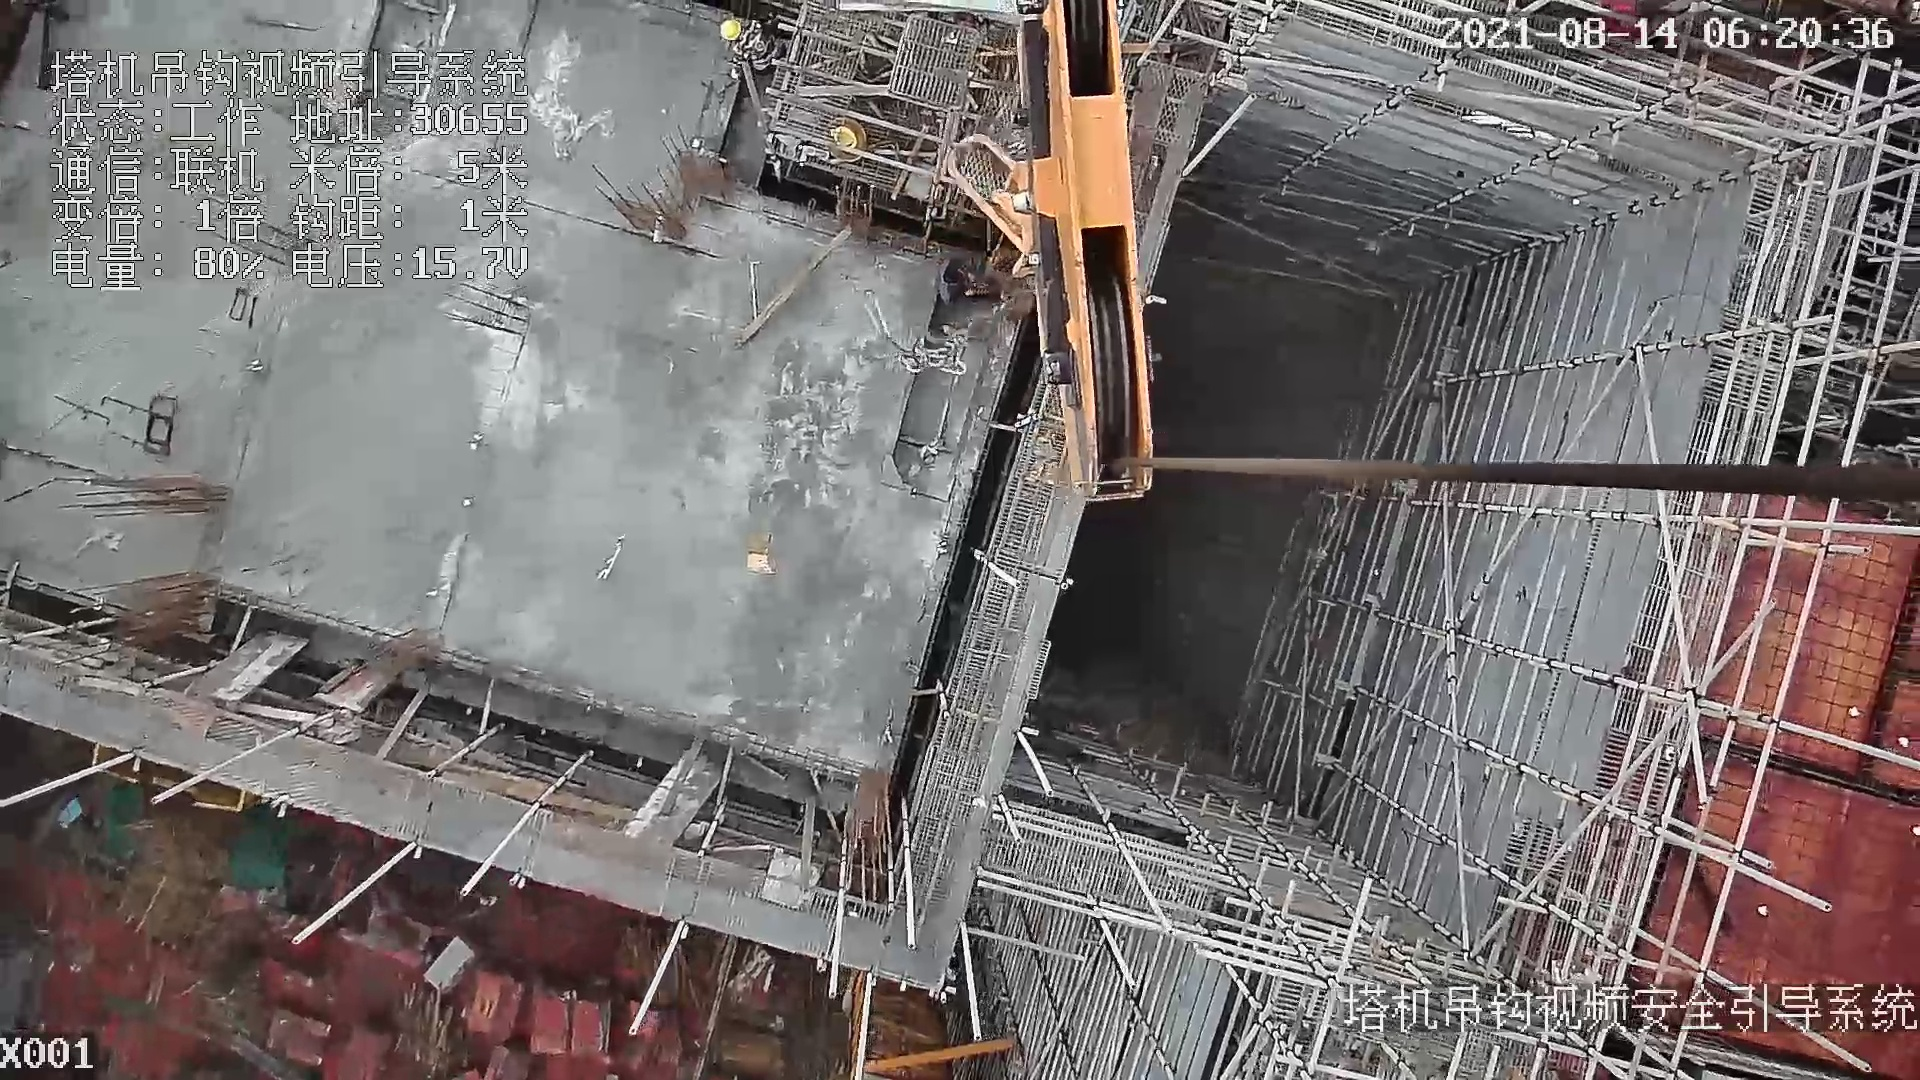helmet: (717, 18, 741, 41)
hook: (945, 1, 1155, 502)
